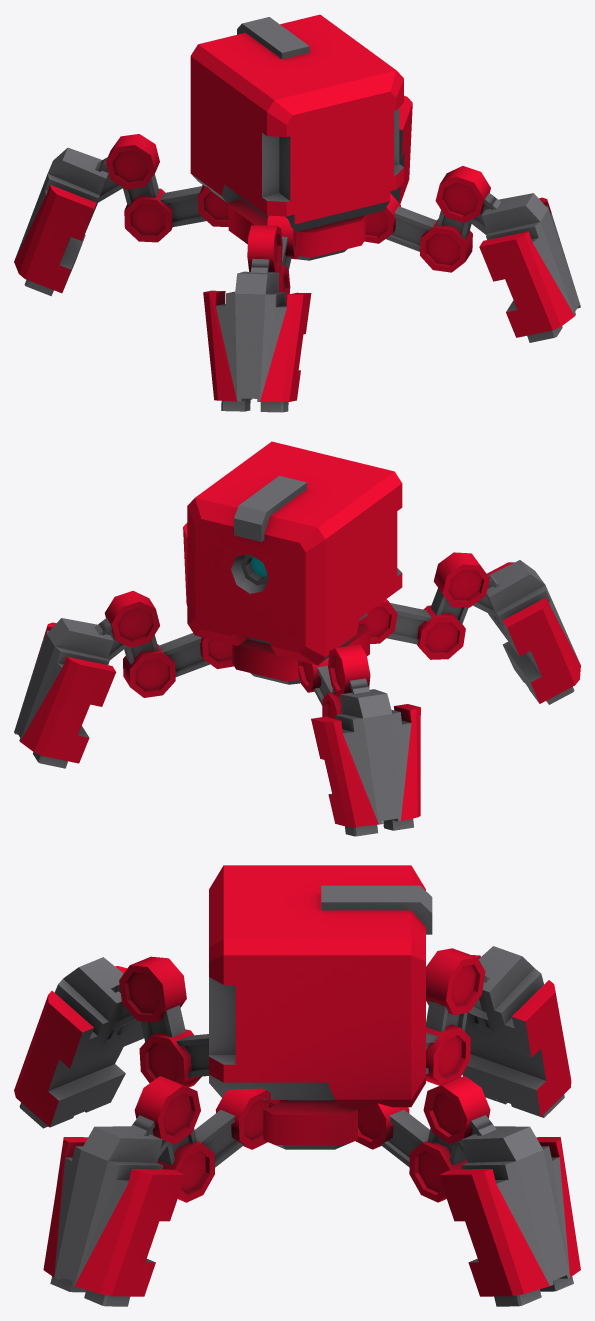
Rendered from Monster1_Attack9.obj.
The picture shows the model from 3 angles, top to bottom: view 1: azimuth 30°, elevation 25°; view 2: azimuth 150°, elevation 25°; view 3: azimuth 270°, elevation 25°; orthographic projection. The views are drawn at different scales.
Parts seen in each view (by area): view 1: Box006, Object021, Object017, Object025, Object028, Object020, Object027, Object019, Object018, Object026, Object024, Object013 (+1 smaller); view 2: Box006, Object025, Object013, Object021, Object016, Object024, Object023, Object015, Object022, Object014, Object028, Object026; view 3: Box006, Object013, Object017, Object021, Object025, Object018, Object024, Object016, Object020, Object028, Object023, Object027 (+4 smaller).
Boxes of the visible parts, left/top/right/bottom form: Box006: left=190, top=14, right=403, bottom=260; Object021: left=203, top=271, right=311, bottom=412; Object017: left=479, top=193, right=580, bottom=342; Object025: left=14, top=147, right=108, bottom=296; Object028: left=95, top=134, right=159, bottom=202; Object020: left=435, top=166, right=500, bottom=235; Object027: left=123, top=174, right=172, bottom=242; Object019: left=420, top=210, right=472, bottom=272; Object018: left=364, top=193, right=436, bottom=251; Object026: left=160, top=185, right=242, bottom=227; Object024: left=247, top=225, right=282, bottom=272; Object013: left=390, top=95, right=412, bottom=203; Box006: left=187, top=441, right=402, bottom=684; Object025: left=311, top=689, right=420, bottom=836; Object013: left=14, top=618, right=116, bottom=768; Object021: left=486, top=560, right=580, bottom=704; Object016: left=94, top=591, right=159, bottom=660; Object024: left=433, top=552, right=499, bottom=617; Object023: left=417, top=588, right=468, bottom=659; Object015: left=123, top=635, right=175, bottom=697; Object022: left=358, top=599, right=431, bottom=644; Object014: left=159, top=633, right=233, bottom=676; Object028: left=328, top=644, right=370, bottom=697; Object026: left=298, top=657, right=332, bottom=705; Box006: left=209, top=865, right=432, bottom=1149; Object013: left=438, top=1126, right=580, bottom=1306; Object017: left=43, top=1126, right=185, bottom=1306; Object021: left=14, top=957, right=143, bottom=1128; Object025: left=462, top=946, right=571, bottom=1117; Object018: left=194, top=1088, right=279, bottom=1167; Object024: left=111, top=956, right=186, bottom=1030; Object016: left=423, top=1076, right=496, bottom=1155; Object020: left=129, top=1076, right=200, bottom=1158; Object028: left=426, top=948, right=489, bottom=1019; Object023: left=139, top=1005, right=201, bottom=1087; Object027: left=426, top=1001, right=470, bottom=1085.
Bounding box in the file's own units: 151 × 93.2 × 154.
